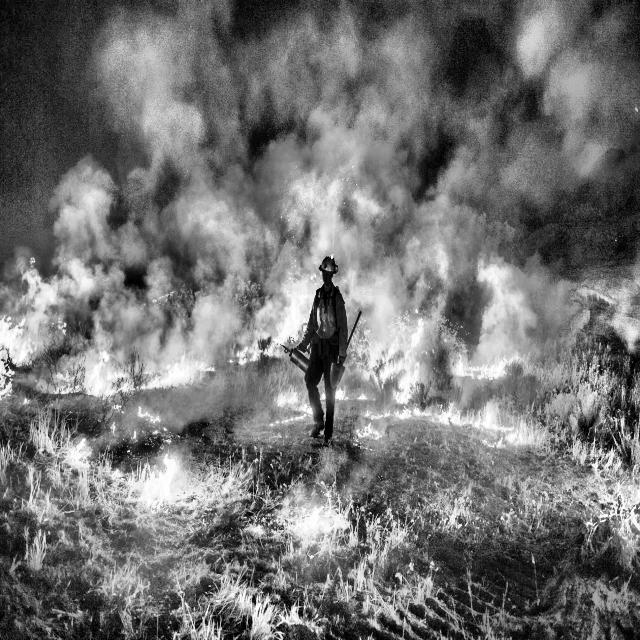fire: (0, 224, 570, 620)
